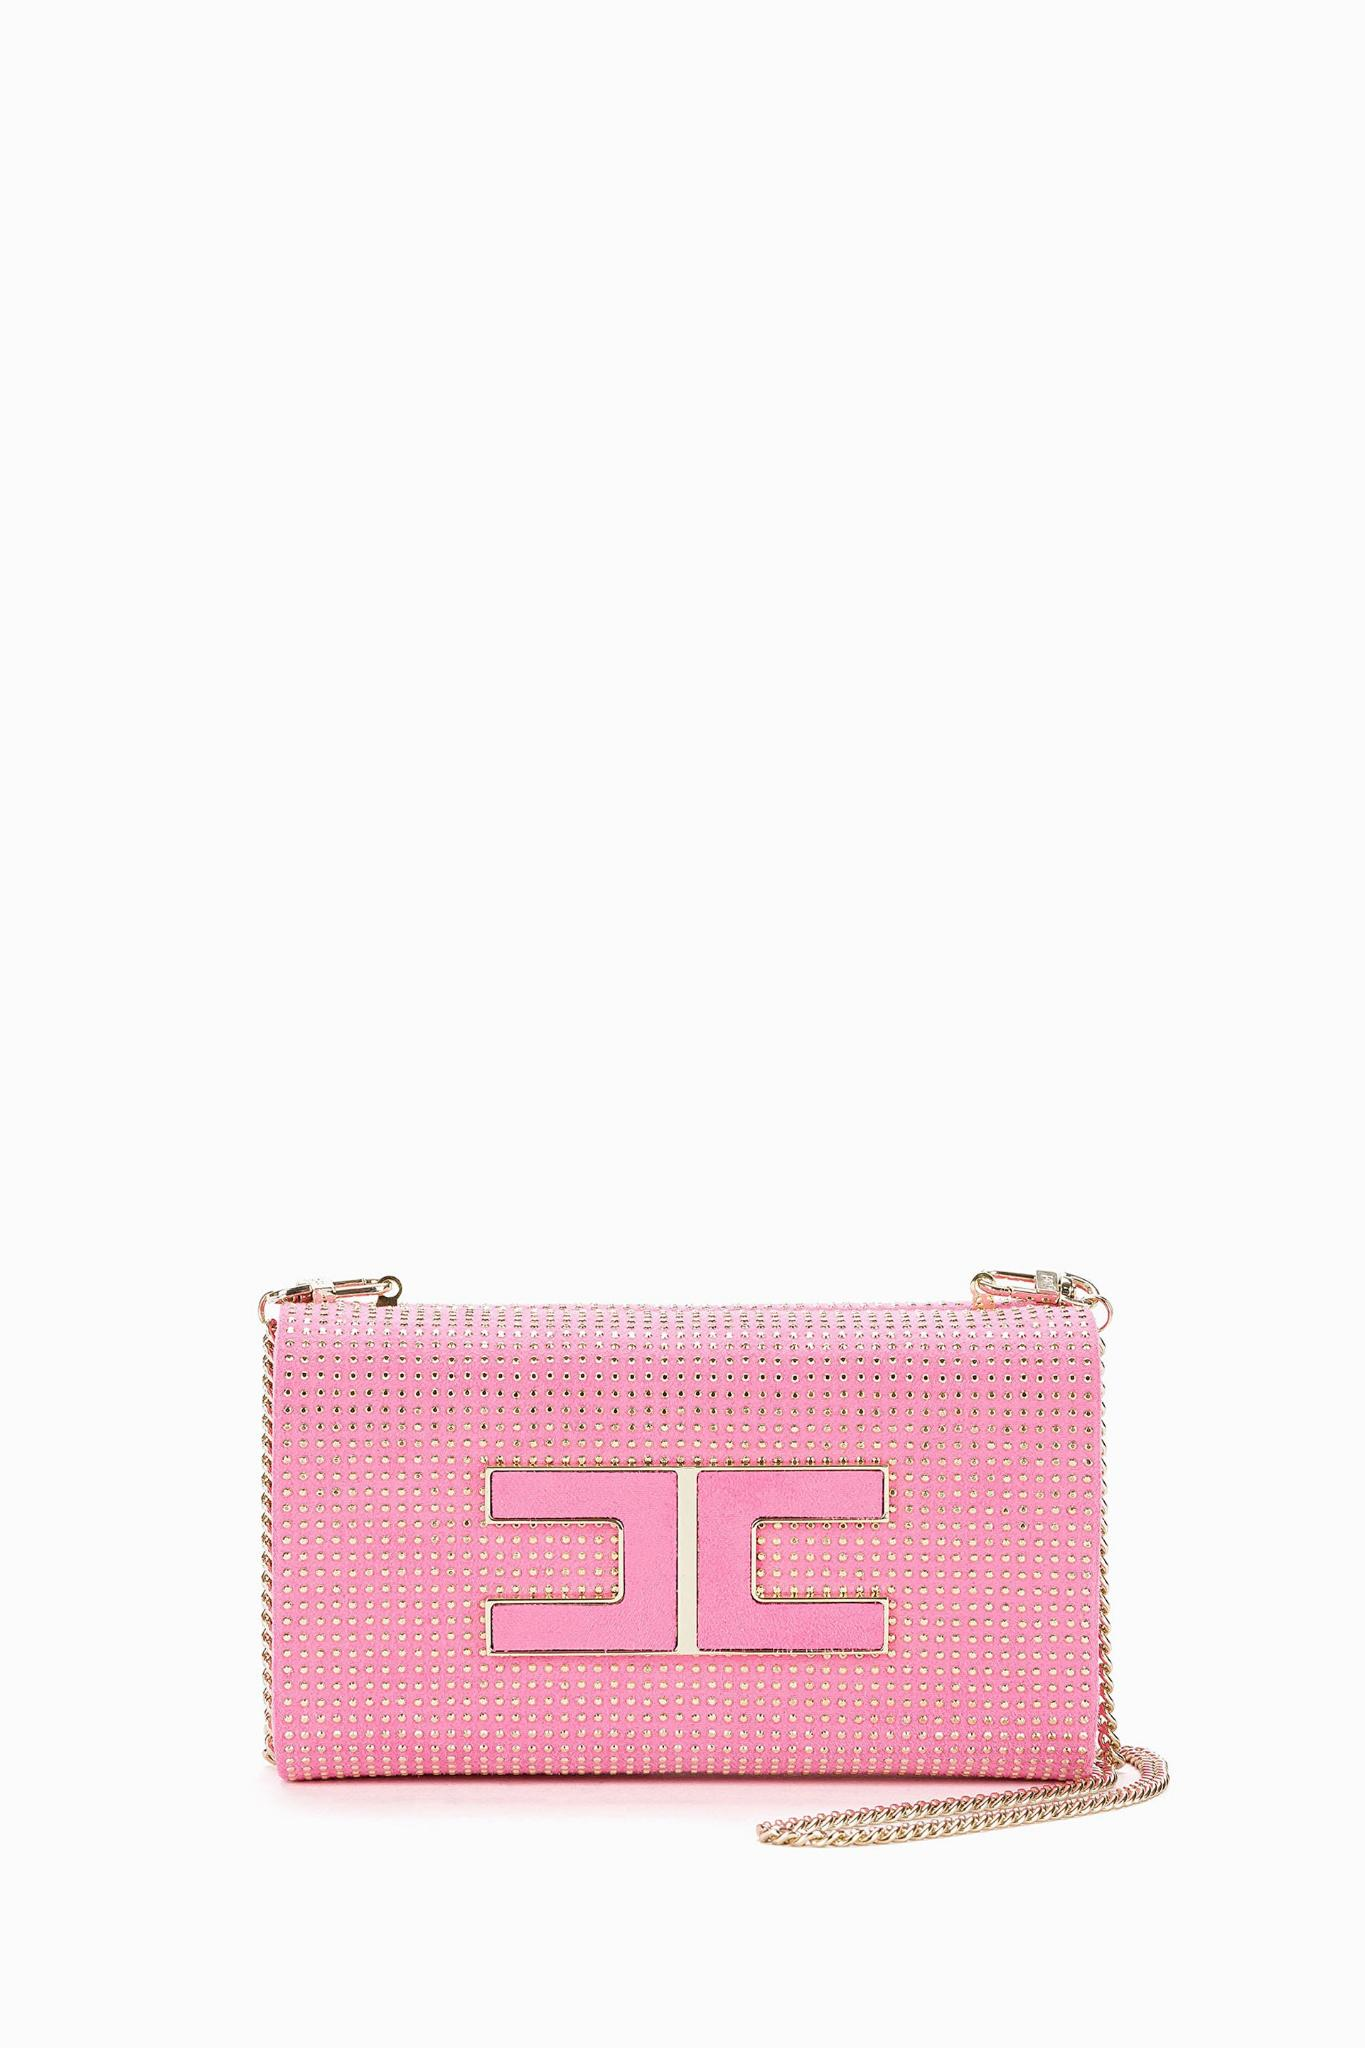ELISABETTA-FRANCHI: (407, 1431, 941, 1696)
